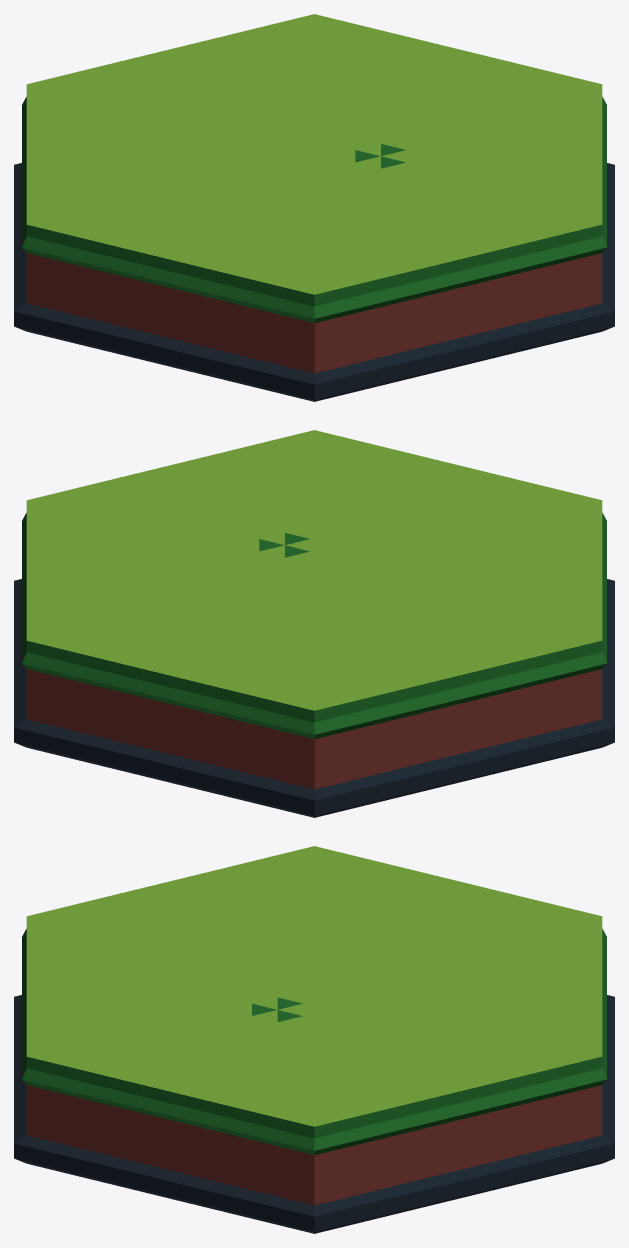
File: HexTile_Grass.fbx
3 renders of one model, top to bottom at view 1: azimuth 30°, elevation 25°; view 2: azimuth 150°, elevation 25°; view 3: azimuth 270°, elevation 25°, orthographic.
Visible parts, largest first — view 1: HexTile_Grass; view 2: HexTile_Grass; view 3: HexTile_Grass.
Boxes of the visible parts, left/top/right/bottom form: HexTile_Grass: left=14, top=14, right=614, bottom=401; HexTile_Grass: left=14, top=430, right=614, bottom=817; HexTile_Grass: left=14, top=846, right=614, bottom=1233.
Bounding box in the file's own units: 1.88 × 0.32 × 1.63.
